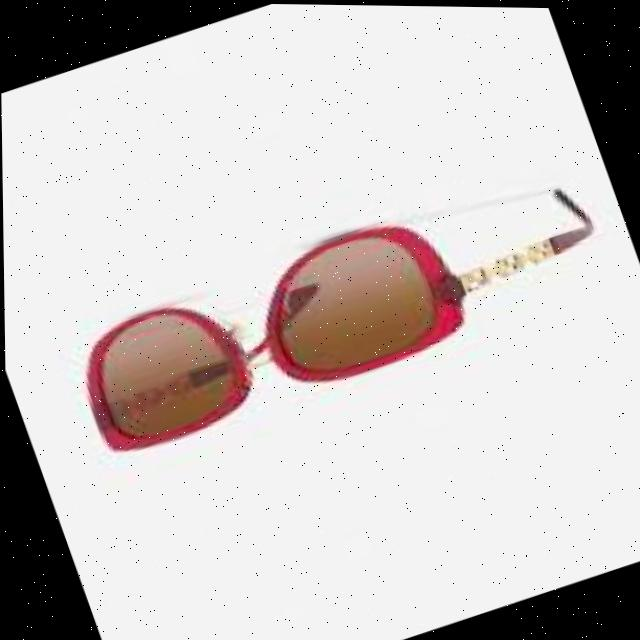gozluk: (36, 193, 483, 476)
